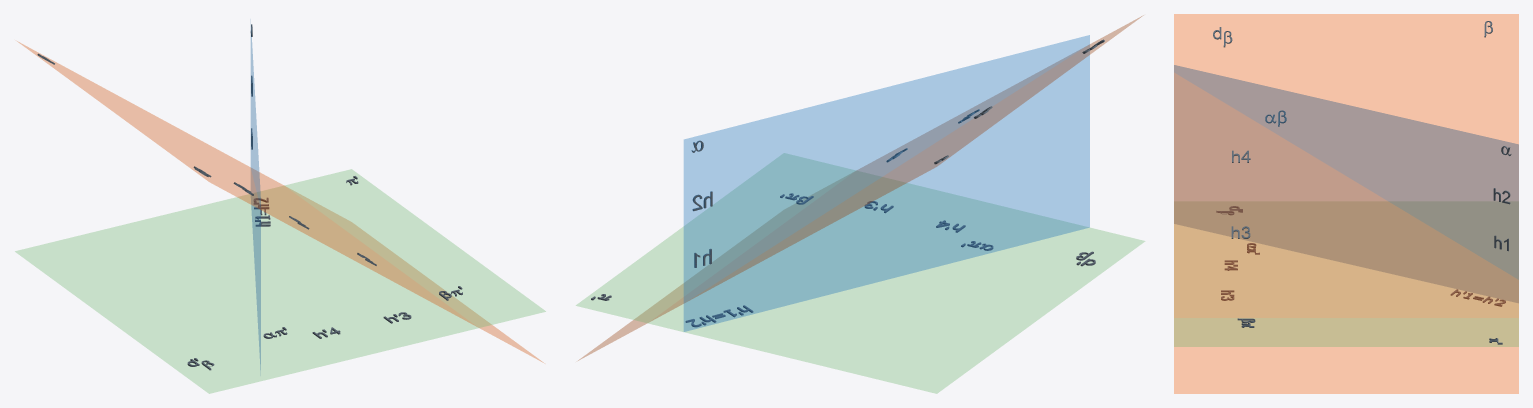
Rendered from int_pq_pv.glb.
3 renders of one model, left to right at view 1: azimuth 30°, elevation 25°; view 2: azimuth 150°, elevation 25°; view 3: azimuth 270°, elevation 25°, orthographic. The views are drawn at different scales.
Visible parts, largest first — view 1: root; view 2: root; view 3: root.
Boxes of the visible parts, box(x1,y1,x2,y2) form: root: box(15, 30, 545, 393); root: box(576, 15, 1144, 393); root: box(1174, 14, 1518, 393).
Bounding box in the file's own units: 2.54 × 1.91 × 2.54.
